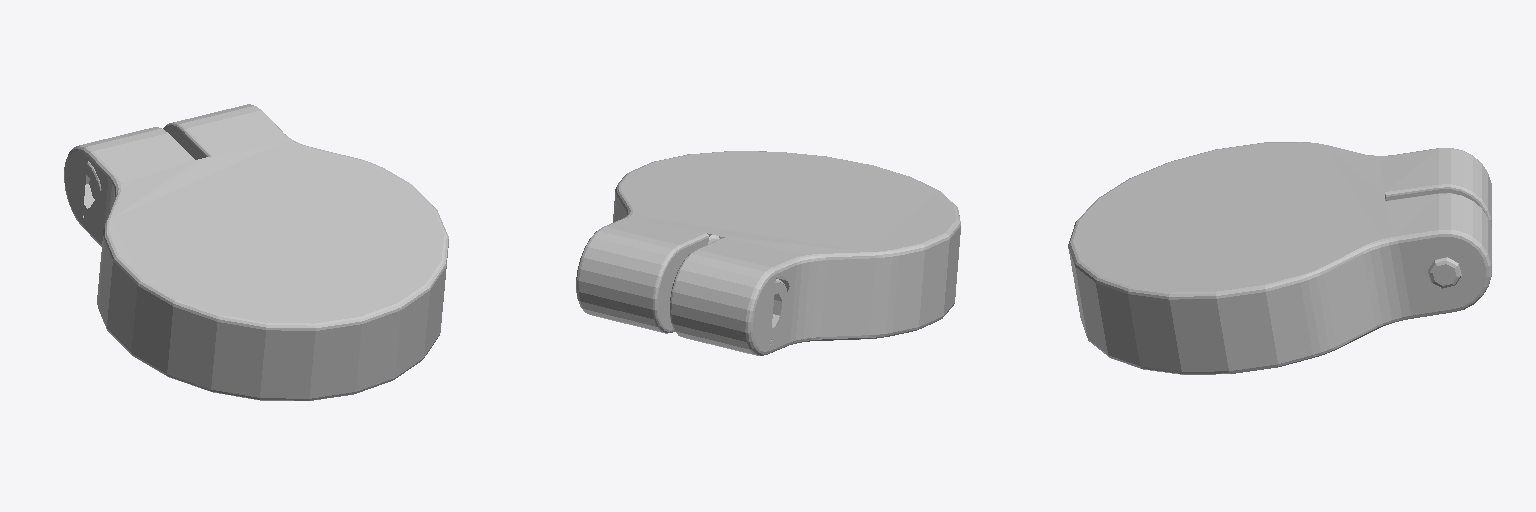
File: New_seat_post_clamp.obj
3 renders of one model, left to right at view 1: azimuth 30°, elevation 25°; view 2: azimuth 150°, elevation 25°; view 3: azimuth 270°, elevation 25°, orthographic.
Visible parts, largest first — view 1: Cylinder.002; view 2: Cylinder.002; view 3: Cylinder.002.
Part boxes in pixels (bbox=[...]): Cylinder.002: bbox=[64, 104, 448, 400]; Cylinder.002: bbox=[576, 151, 960, 355]; Cylinder.002: bbox=[1068, 142, 1491, 374].
Size of the model in its own units: 0.0299 by 0.0128 by 0.0365.